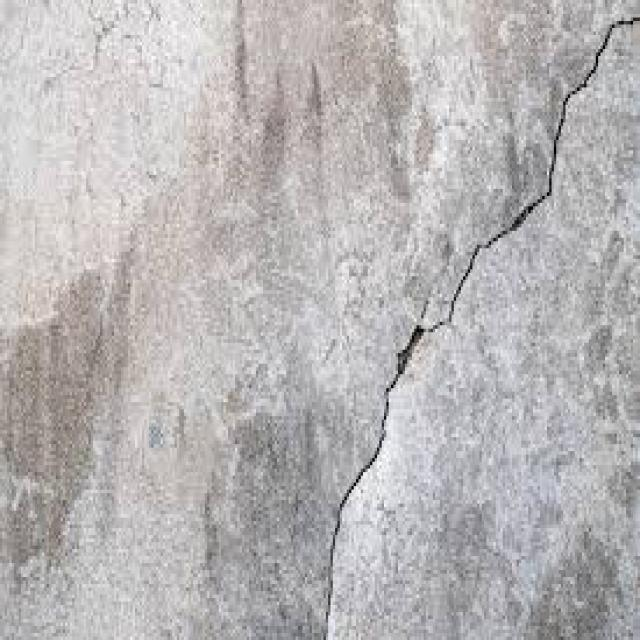crack: (321, 18, 636, 639)
